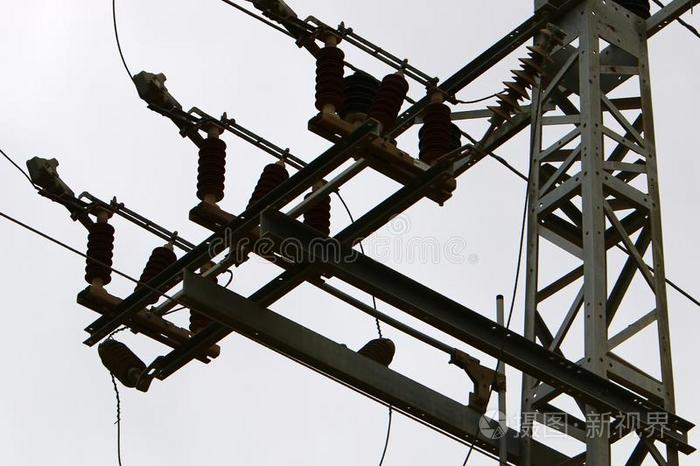insulator: (485, 45, 551, 127), (193, 137, 231, 199), (310, 45, 345, 107), (82, 221, 118, 281)
